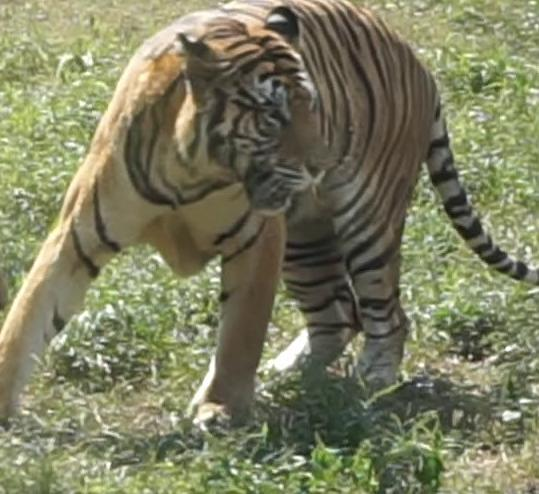tiger: (0, 0, 538, 424)
